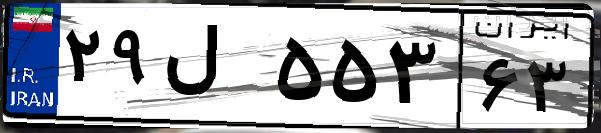2: (57, 26, 110, 100)
3: (385, 28, 445, 110), (525, 38, 570, 115)
5: (270, 28, 330, 110), (330, 28, 385, 110)
6: (475, 38, 525, 113)
9: (110, 28, 158, 98)
ل: (158, 20, 270, 120)
